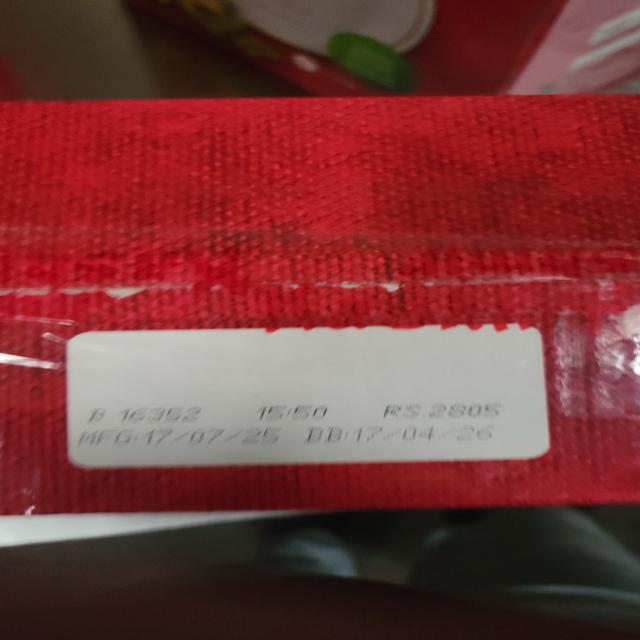BB: (304, 424, 491, 445)
Batch: (86, 406, 202, 423)
MFG: (78, 427, 274, 448)
RS: (383, 402, 506, 419)
TimeStamp: (255, 405, 328, 421)
